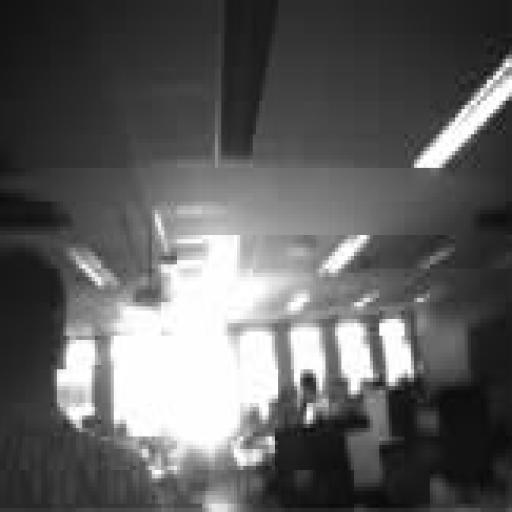human: (0, 244, 158, 507), (301, 370, 322, 423)
